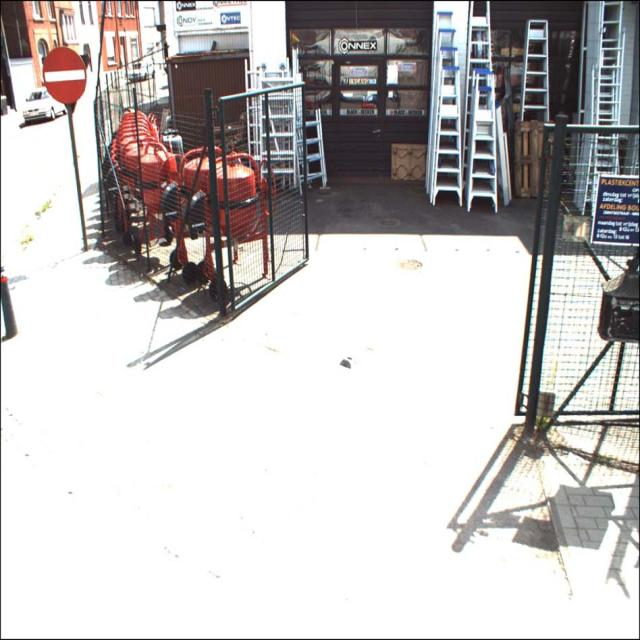girisyok: (42, 47, 86, 105)
